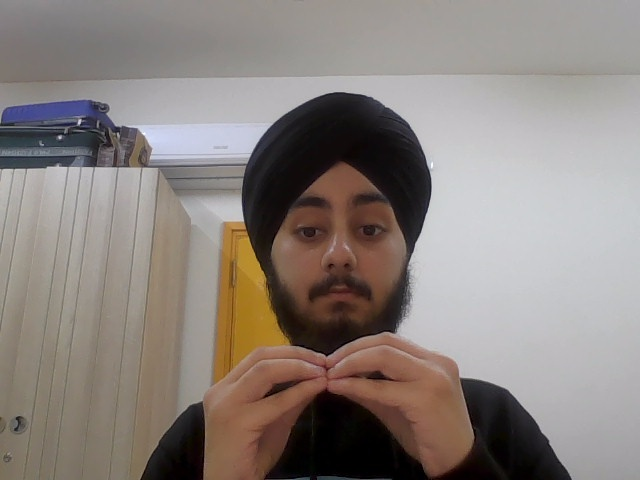More: (202, 330, 479, 479)
